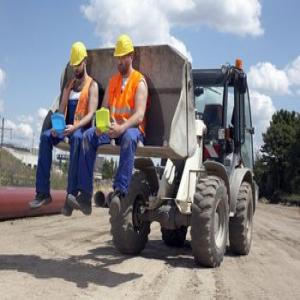yellow: (116, 34, 134, 74), (71, 42, 88, 77)
